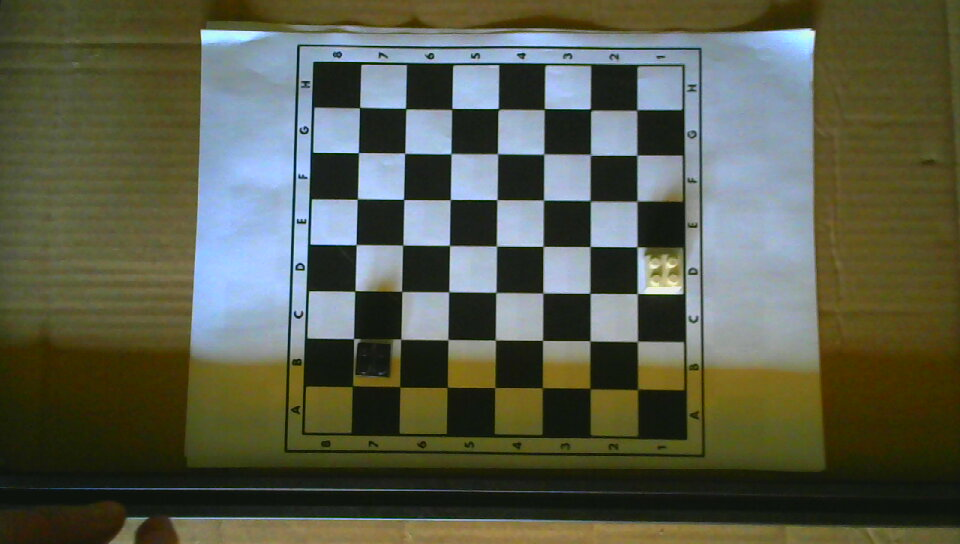bp: (355, 340, 392, 378)
wp: (642, 249, 682, 293)
